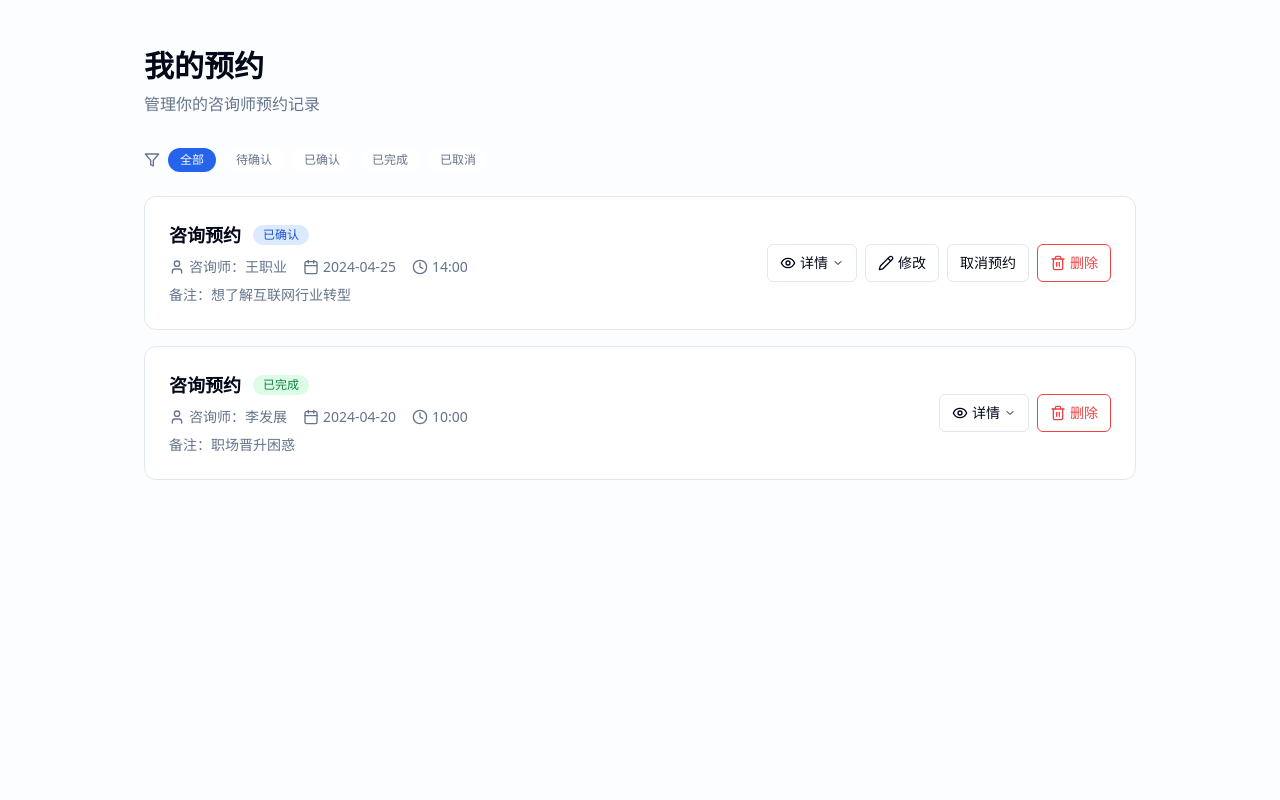
Scenario: Appointments Page › allows cancelling a confirmed appointment
Click the button "取消预约" at point(988, 263), box left=947, top=244, right=1029, bottom=282
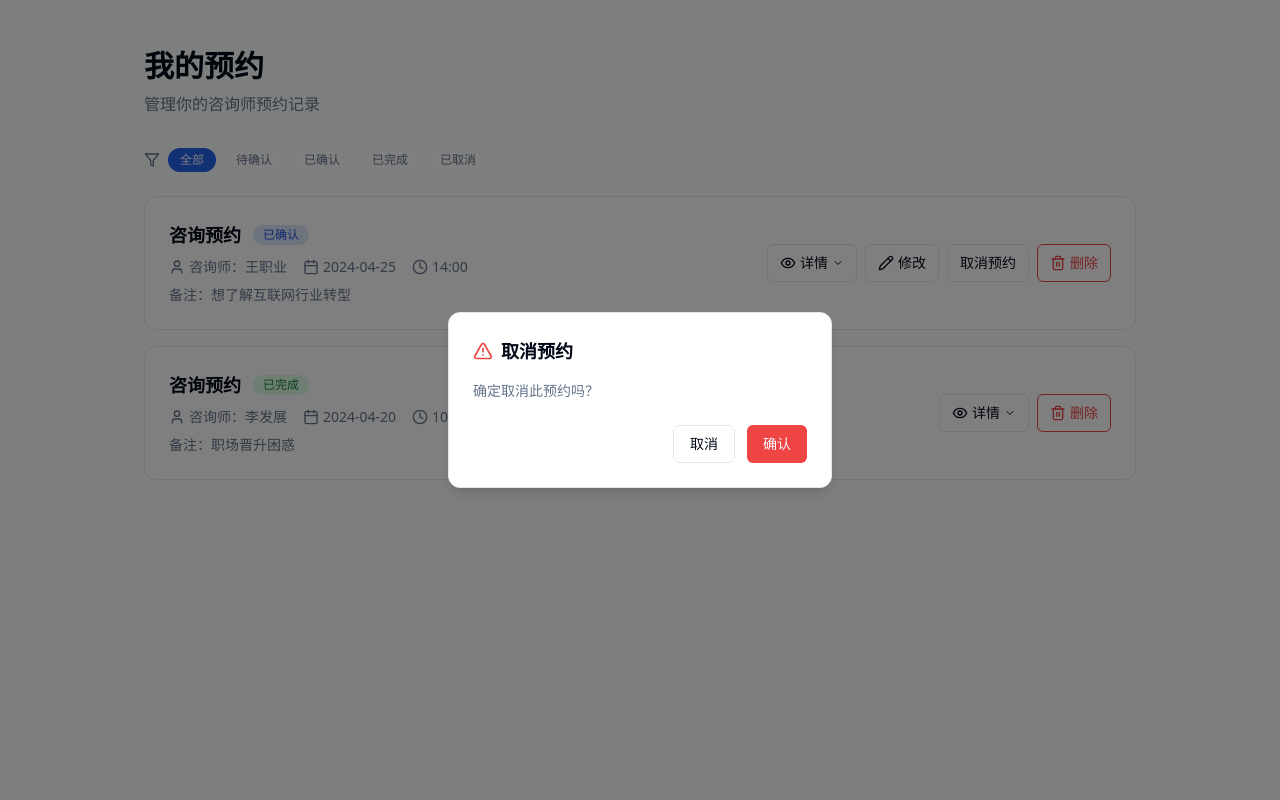
Result: the text "确定取消此预约吗？" is shown at left=473, top=381, right=599, bottom=400
Click the button "确认" at point(777, 444), box left=747, top=425, right=807, bottom=463
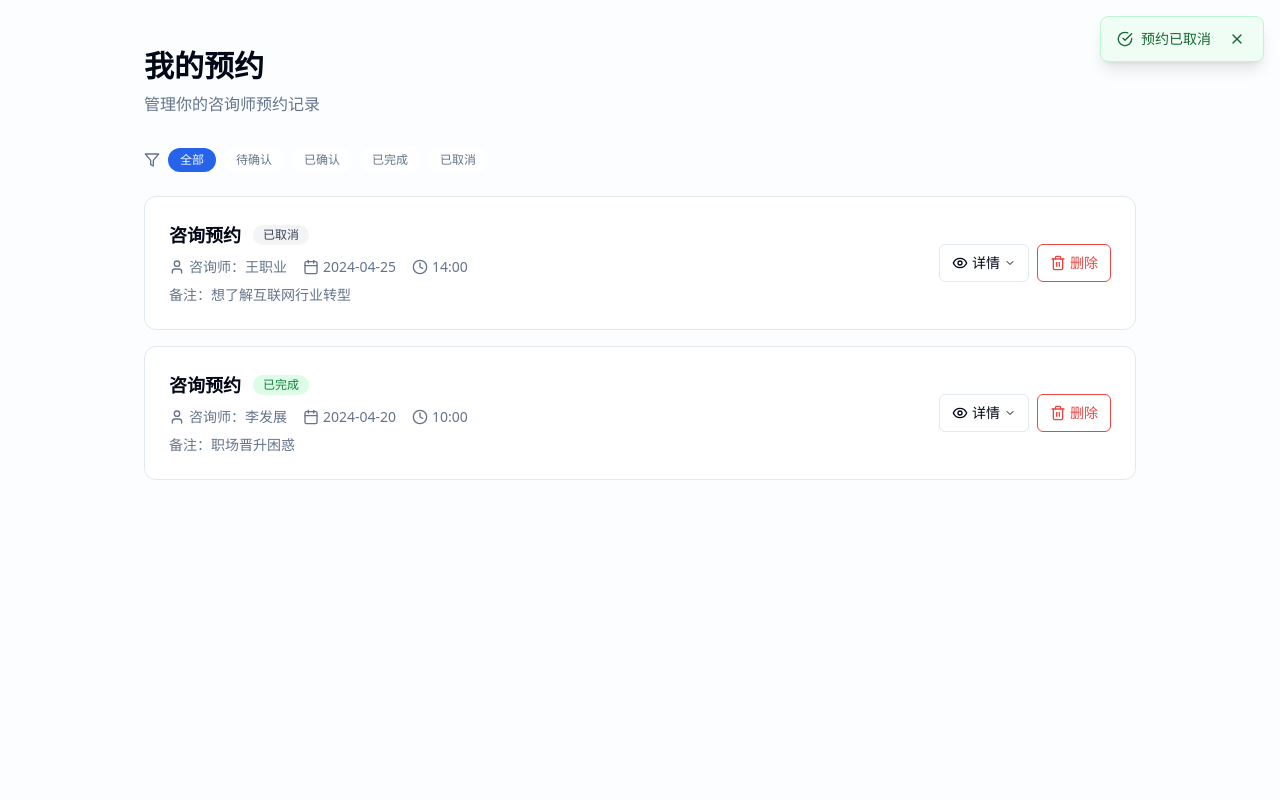
Result: the text "预约已取消" is shown at left=1141, top=29, right=1211, bottom=49
